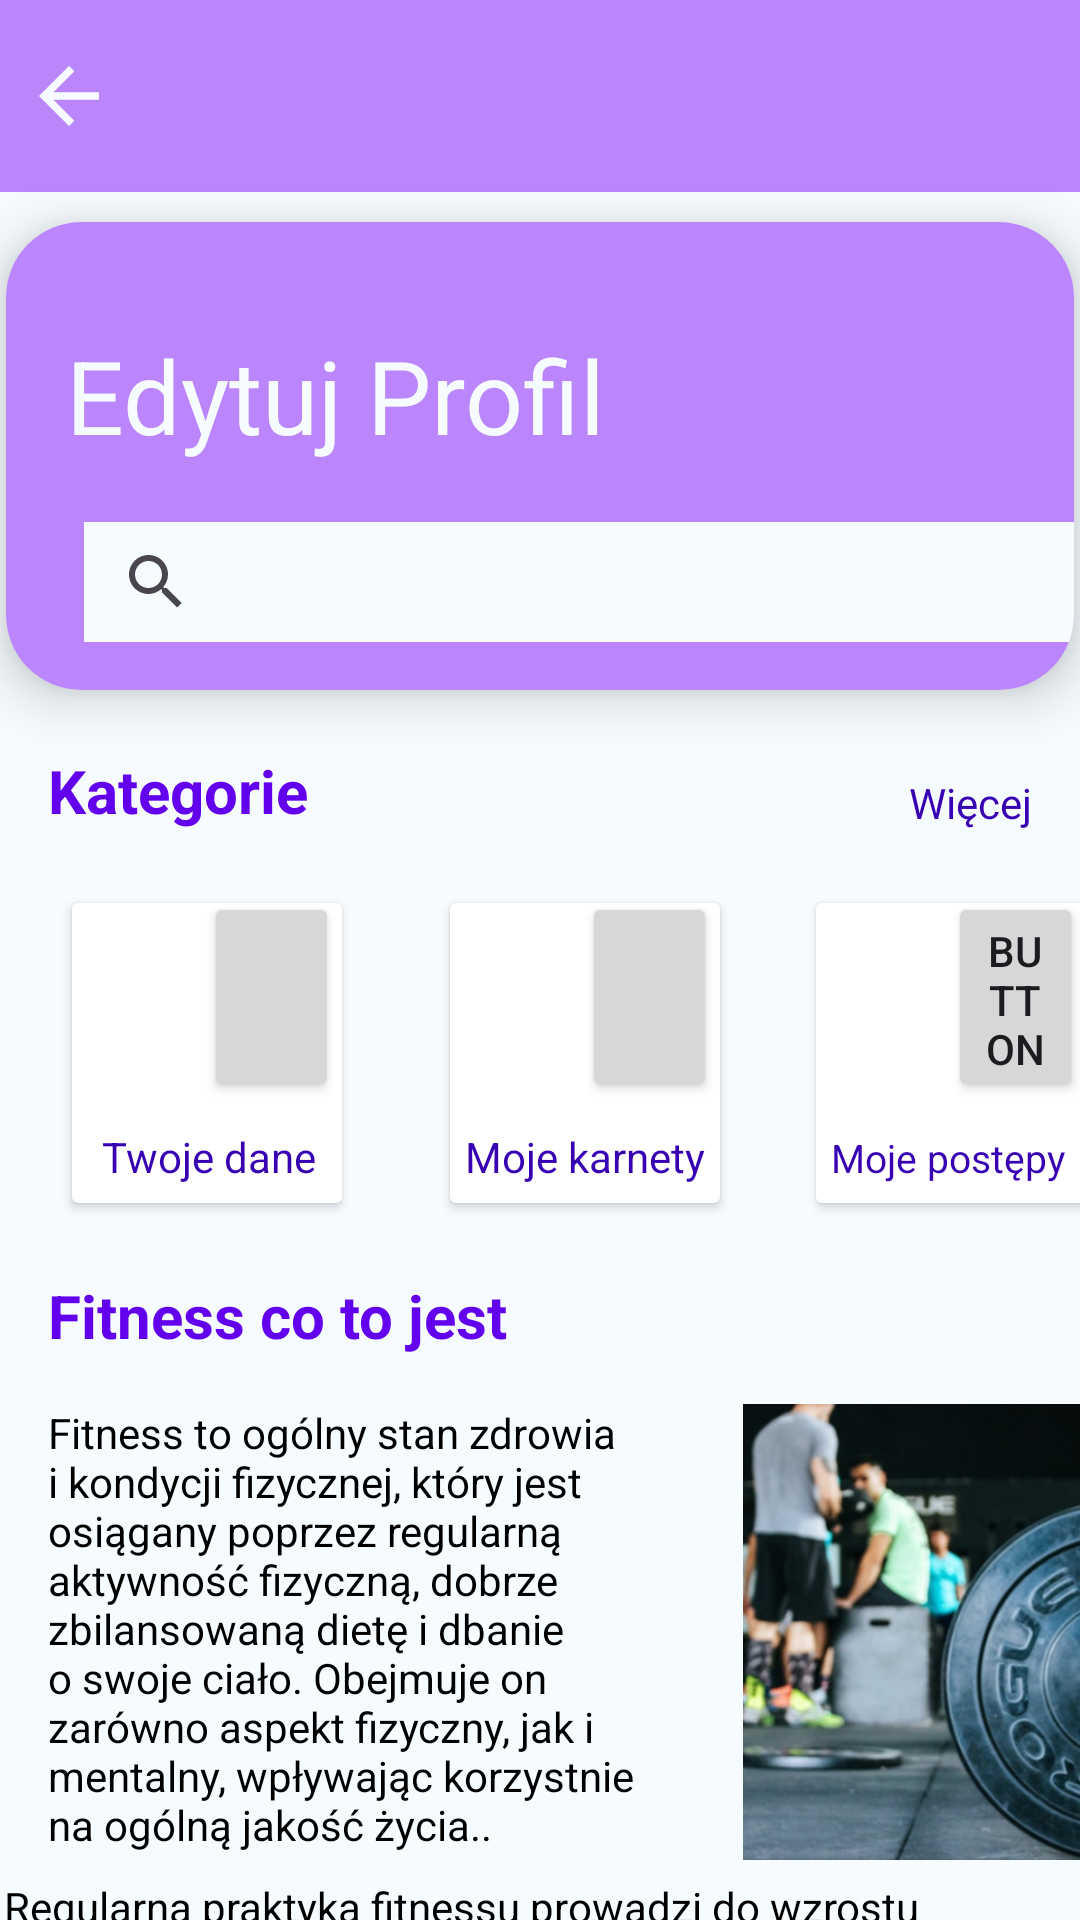

Where to tap for icons on this 1080x1920 app screen, as [x,y]:
arrow back: [69,96]
